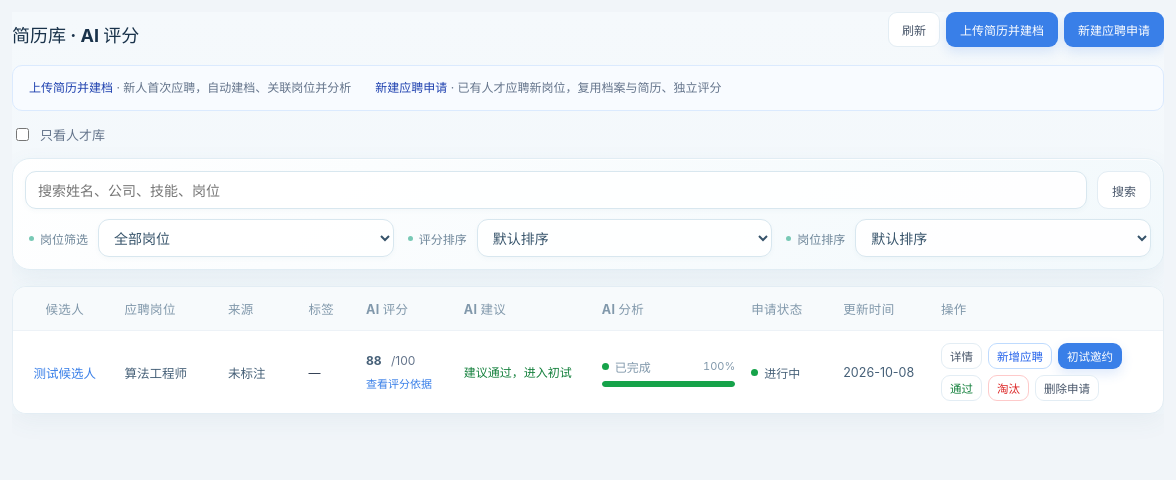
AI screening direct initial invitation › keeps a concurrent rejection closed rather than routing to scheduling
Click the button "初试邀约" at (1090, 356), box 1058,343 -> 1122,369
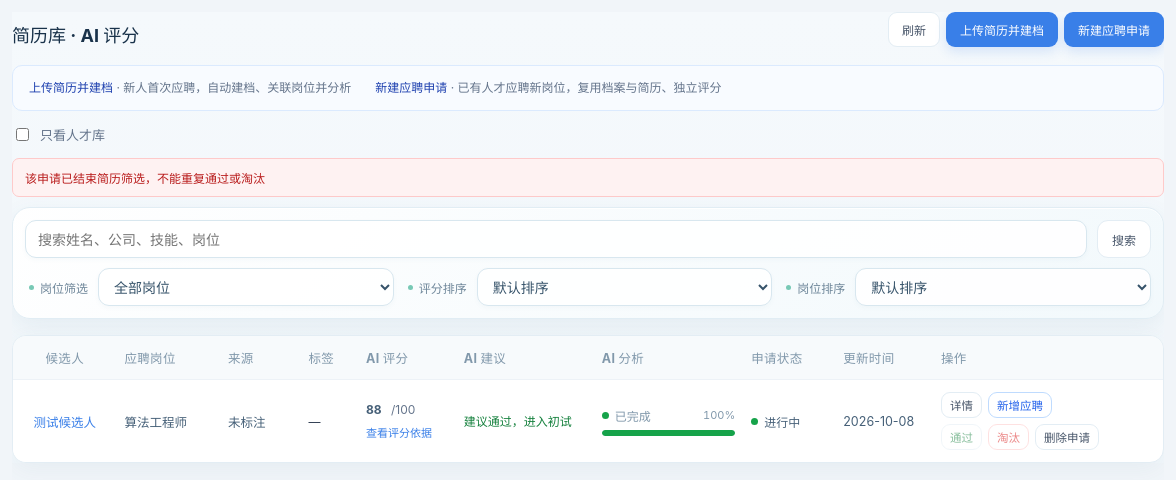
Now the text "不能重复通过或淘汰" is shown, box 25,171 -> 265,186
